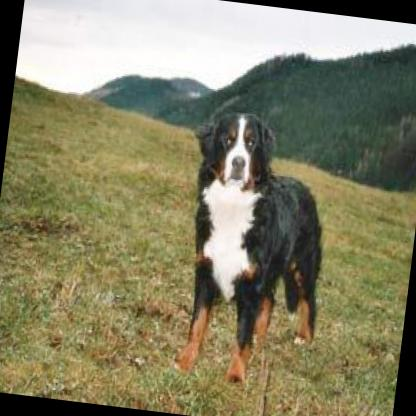EntleBucher: (158, 101, 341, 399)
